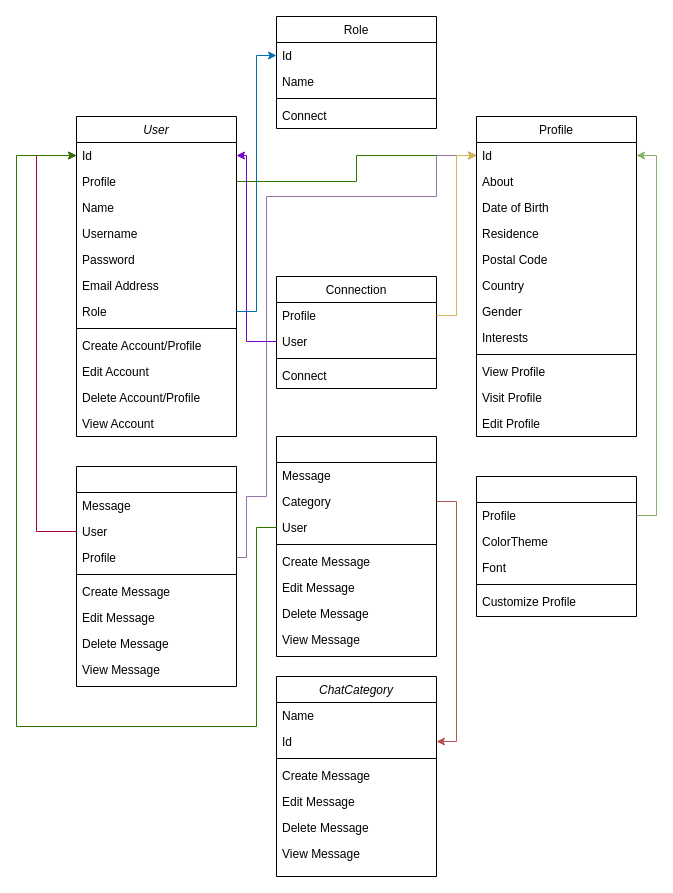
Image size: 673x893. Some labels were removed from this diagram. The shapes that lost their labels are listed below. From the top down, each one's box as (x1, y1, x2, y2) in pixels, then its label:
(276, 436, 436, 656): Chat
(476, 476, 636, 616): ProfilePreferences
(76, 466, 236, 686): ProfileMessage
